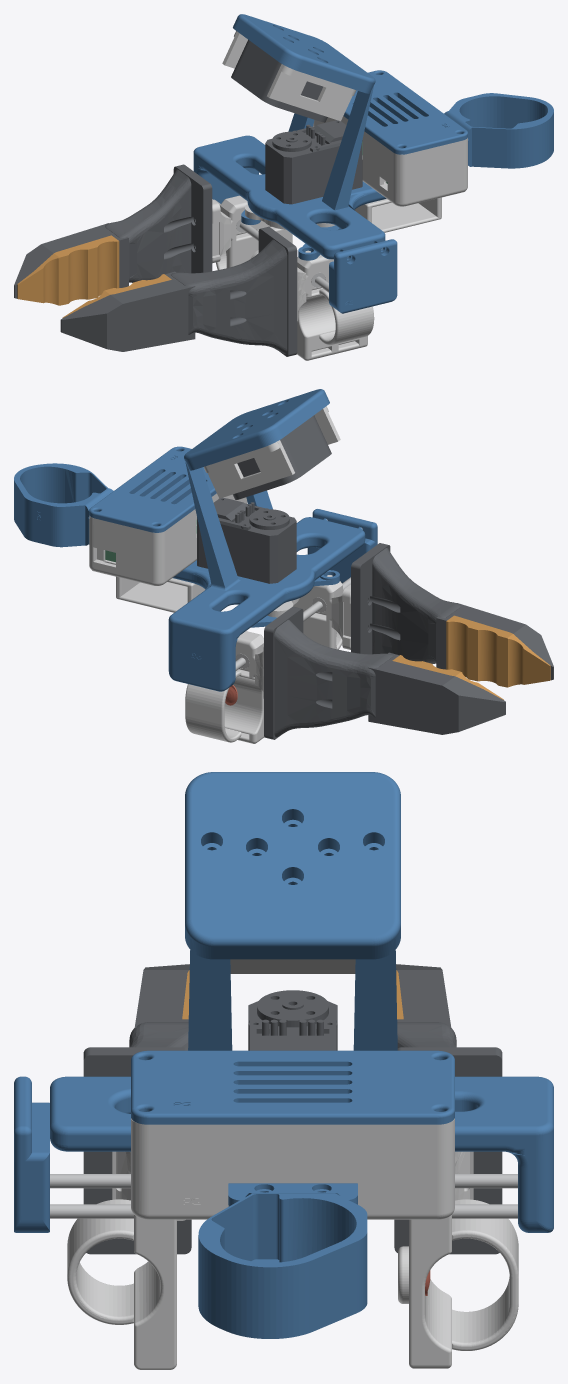
The model's file is umi_right_openarm.glb.
3 views of the same model, one above another, from view 1: azimuth 30°, elevation 25°; view 2: azimuth 150°, elevation 25°; view 3: azimuth 270°, elevation 25° (orthographic). The views are drawn at different scales.
Parts seen in each view (by area): view 1: tip_thumb, main_support, tip_index, controller_support, electronics_box, servo_sts3215, electronics_lid, tip_index_1, thumb_link, main_support_cover_plate, camera_hood, index_link (+3 smaller); view 2: main_support, tip_index, tip_thumb, controller_support, electronics_box, servo_sts3215, electronics_lid, index_link, tip_thumb_1, camera_hood, thumb_link, d405 (+3 smaller); view 3: main_support, electronics_box, electronics_lid, controller_support, index_link, thumb_link, tip_thumb, tip_index, main_support_cover_plate, servo_sts3215, rod_-8, rod_-28 (+1 smaller).
Part boxes in pixels (<box>): tip_thumb: <box>60,226,297,356</box>; main_support: <box>193,14,386,259</box>; tip_index: <box>14,164,212,298</box>; controller_support: <box>444,93,553,168</box>; electronics_box: <box>313,116,467,206</box>; servo_sts3215: <box>265,120,362,204</box>; electronics_lid: <box>343,70,467,154</box>; tip_index_1: <box>17,235,119,305</box>; thumb_link: <box>297,250,374,360</box>; main_support_cover_plate: <box>329,239,397,313</box>; camera_hood: <box>222,31,356,121</box>; index_link: <box>212,195,292,269</box>; main_support: <box>168,389,365,691</box>; tip_index: <box>264,606,505,739</box>; tip_thumb: <box>351,543,553,680</box>; controller_support: <box>14,463,113,547</box>; electronics_box: <box>89,493,247,585</box>; servo_sts3215: <box>197,497,296,583</box>; electronics_lid: <box>89,446,216,532</box>; index_link: <box>185,631,264,743</box>; tip_thumb_1: <box>446,615,550,687</box>; camera_hood: <box>203,406,340,498</box>; thumb_link: <box>293,575,350,649</box>; d405: <box>233,415,331,499</box>; main_support: <box>50,772,553,1232</box>; electronics_box: <box>131,1118,454,1219</box>; electronics_lid: <box>131,1050,454,1124</box>; controller_support: <box>198,1183,367,1338</box>; index_link: <box>398,1151,518,1368</box>; thumb_link: <box>67,1151,185,1369</box>; tip_thumb: <box>83,964,191,1254</box>; tip_index: <box>394,964,502,1254</box>; main_support_cover_plate: <box>14,1076,49,1232</box>; servo_sts3215: <box>248,990,337,1050</box>; rod_-8: <box>50,1204,517,1218</box>; rod_-28: <box>50,1174,517,1188</box>.
Size of the model in its own units: 0.2966 by 0.1669 by 0.15.
